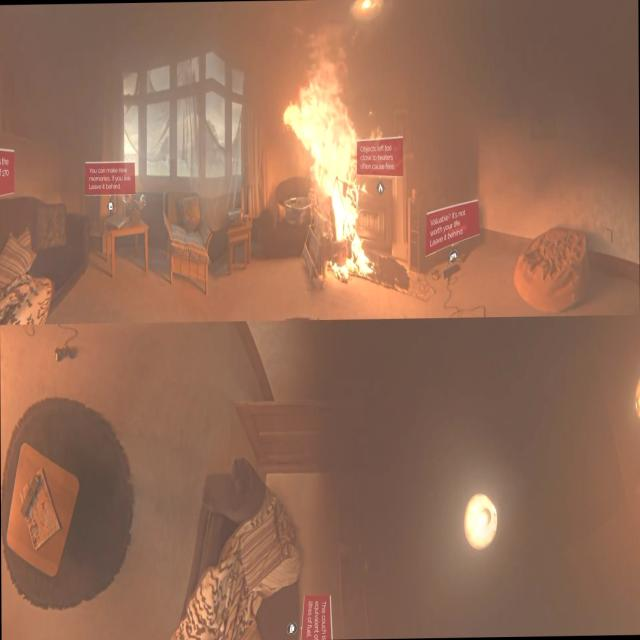fire: (287, 46, 381, 250)
